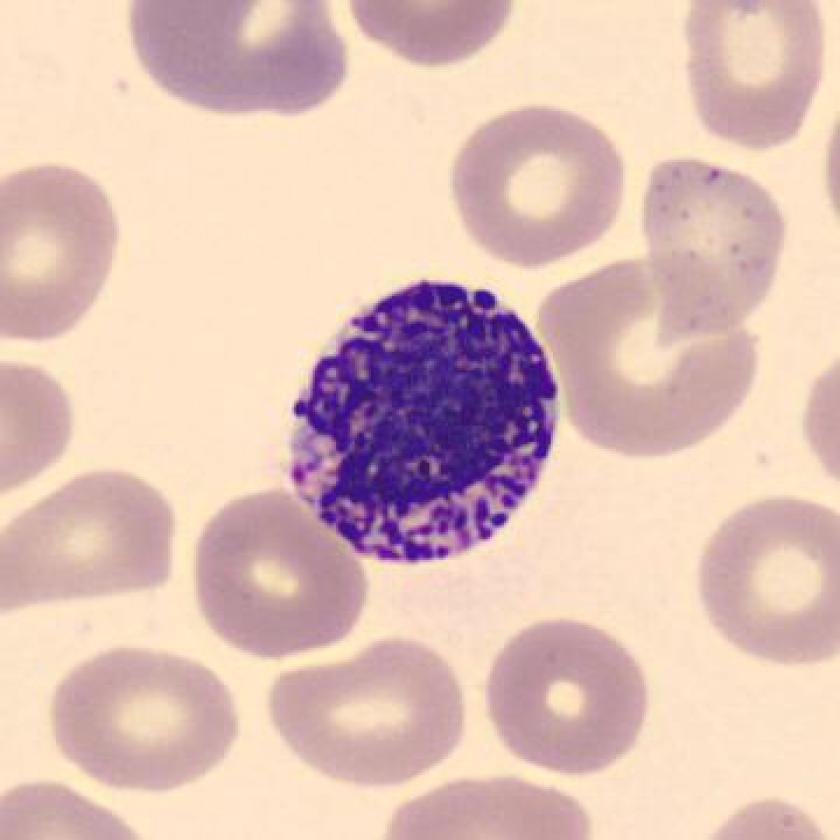basophil: (281, 269, 561, 568)
